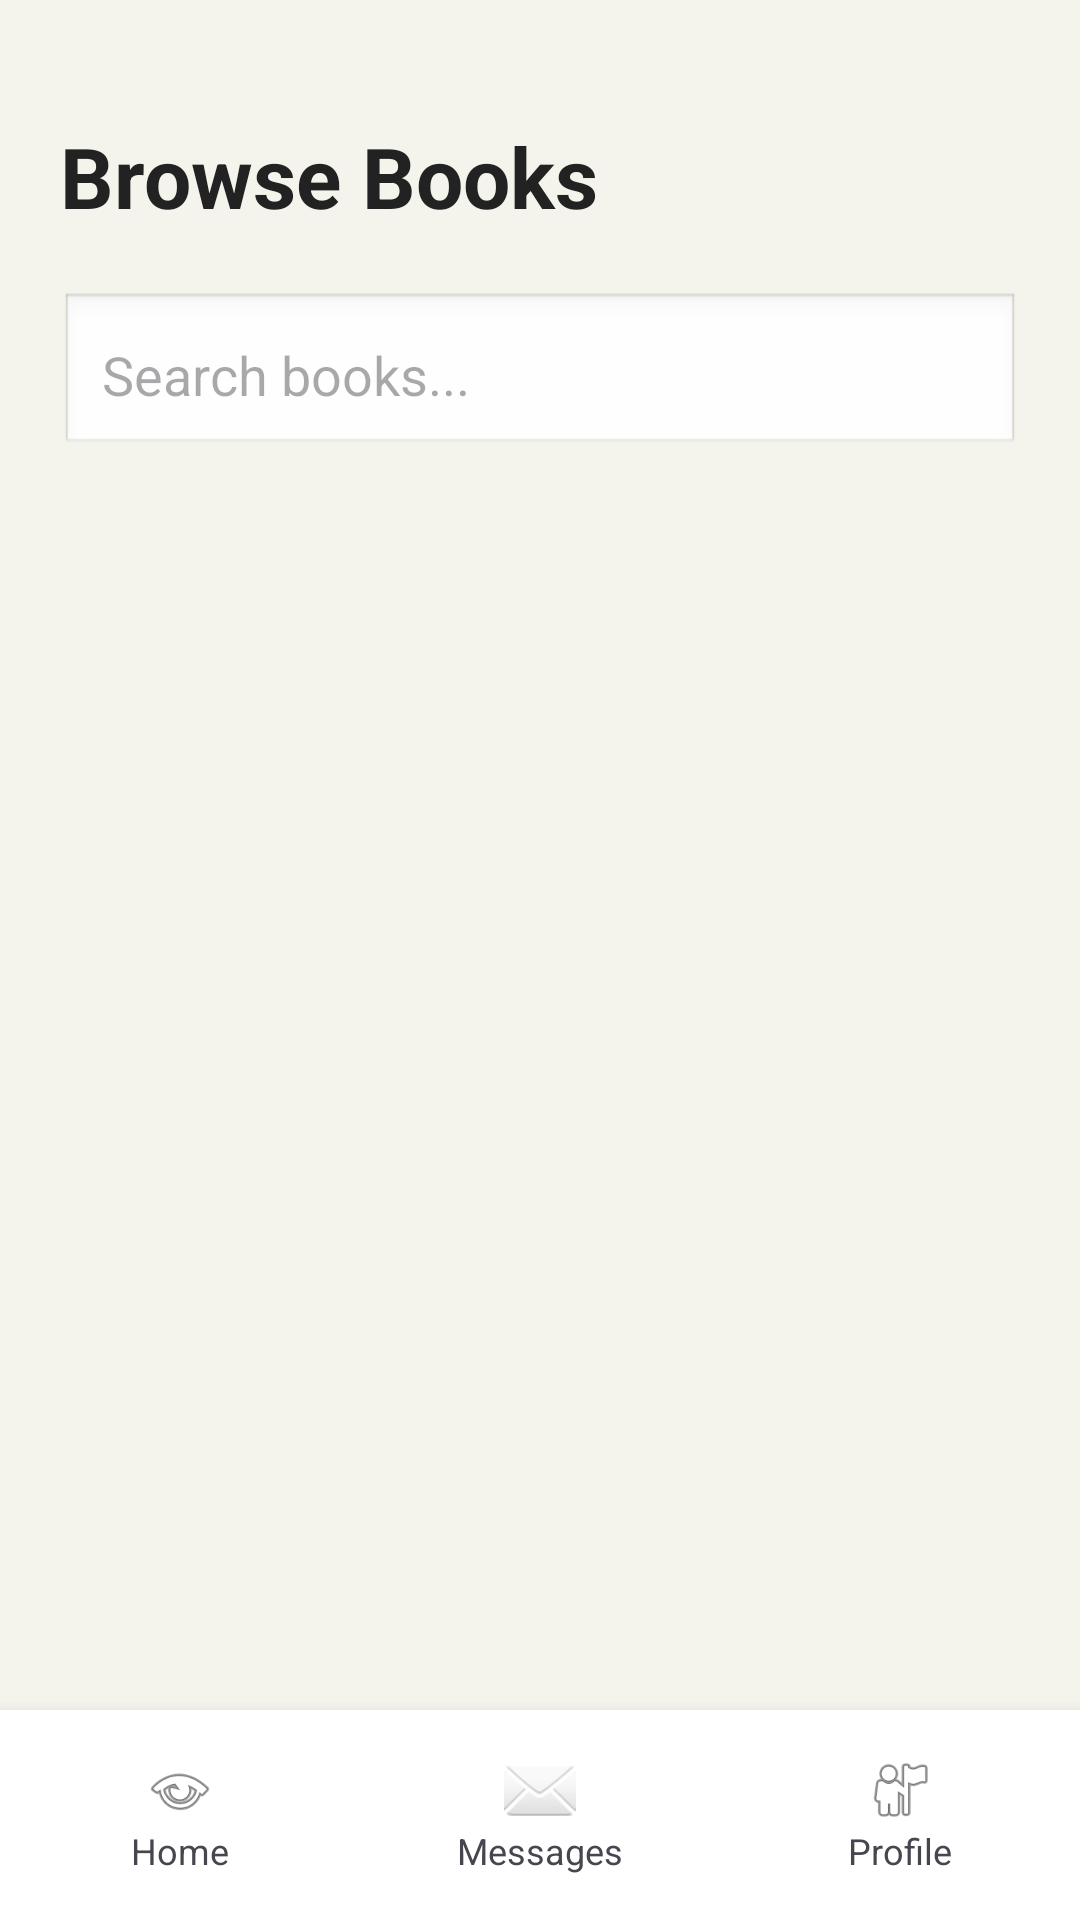

Icons on this 1080w x 1920h Android screen, each with the point to tap as (x=x, y=y):
email: (x=540, y=1791)
view: (x=180, y=1791)
